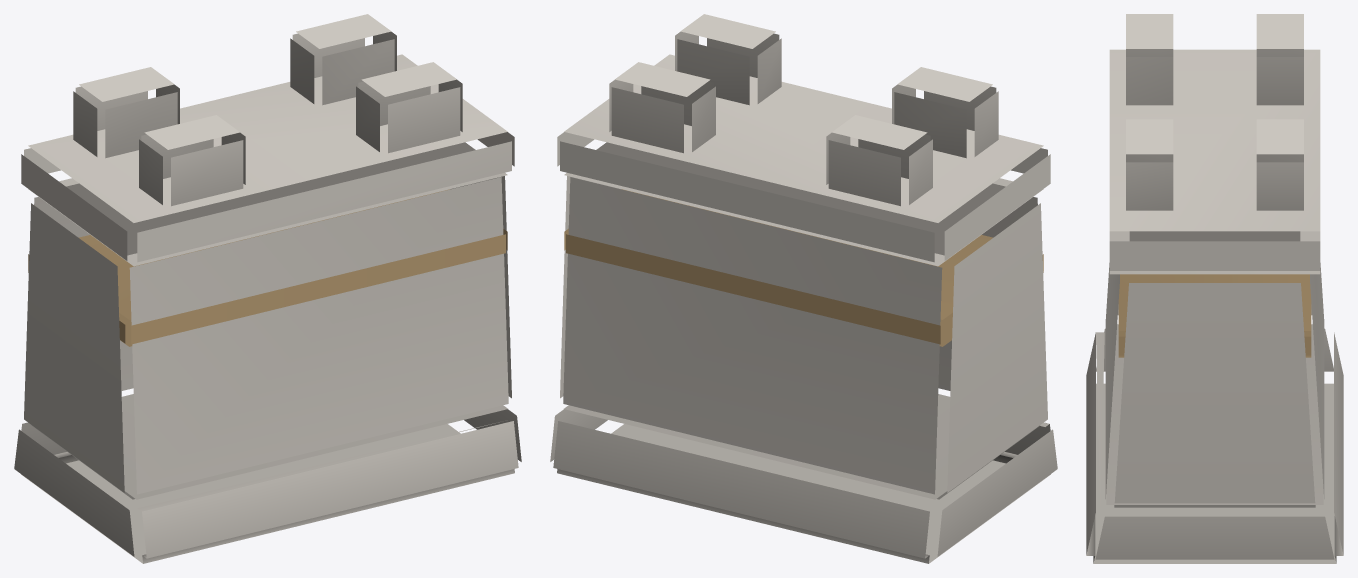
File: wall_connector_lod2.glb
3 views of the same model, side by side, from view 1: azimuth 30°, elevation 25°; view 2: azimuth 150°, elevation 25°; view 3: azimuth 270°, elevation 25° (orthographic).
Parts seen in each view (by area): view 1: wall_connector.001; view 2: wall_connector.001; view 3: wall_connector.001.
Boxes of the visible parts, x1,y1,x2,y2 form: wall_connector.001: [14, 14, 521, 563]; wall_connector.001: [550, 14, 1057, 563]; wall_connector.001: [1086, 14, 1343, 563].
Size of the model in its own units: 1.5 by 1.45 by 0.8682.
